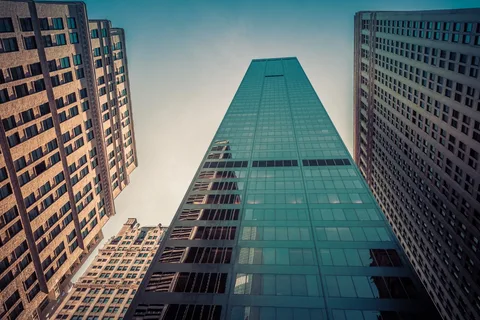high_rise_building: (213, 40, 351, 320)
